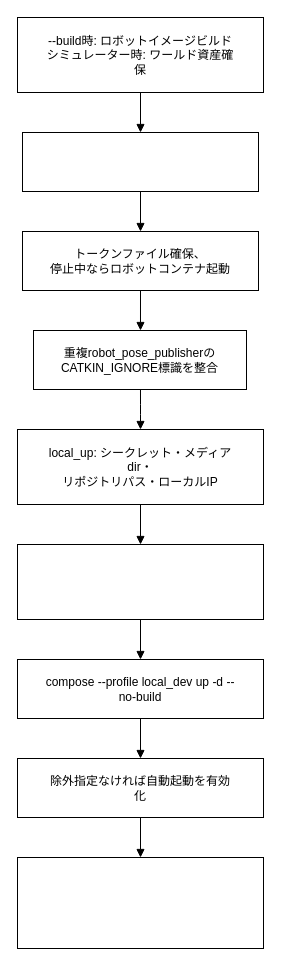
Some shapes in this 281 by 966 pixel diagram are drawn without their labels. Each missing label, with the centre of its shape:
docker exec run_msd.sh: 必要ならワークスペースビルド、 tmuxセッション置換・サービス起 動: the point at 140,902
クラウド宛先・ROSポート・ キャッシュID・ホスト指紋を解決: the point at 140,162
ローカルイメージ欠落か--buildでビ ルド。 他は旧版なら警告: the point at 140,582
